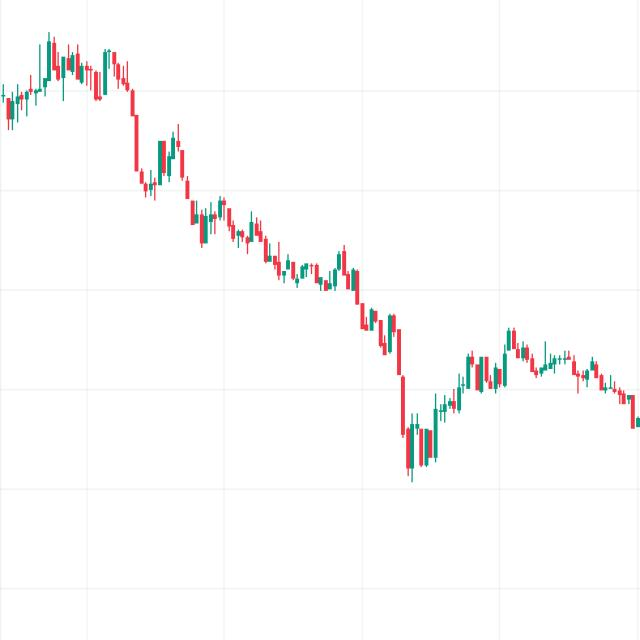Falling-Wedge: (90, 80, 428, 371)
